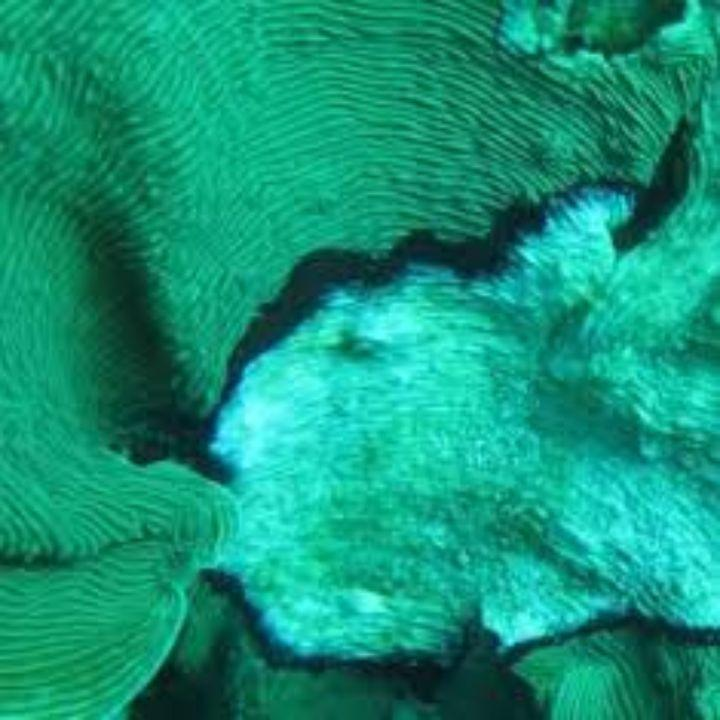Band disease: (198, 222, 696, 685)
